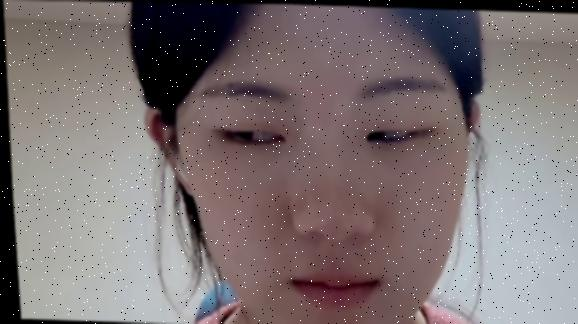eye: (357, 123, 383, 146), (223, 122, 248, 145)
iris: (228, 127, 284, 146), (363, 126, 422, 142)
